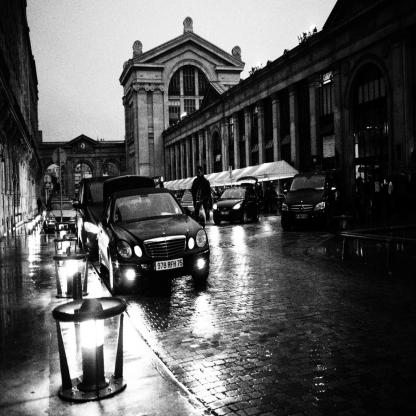Car: (79, 178, 211, 297), (282, 166, 339, 230), (212, 183, 263, 226), (44, 198, 78, 238)
